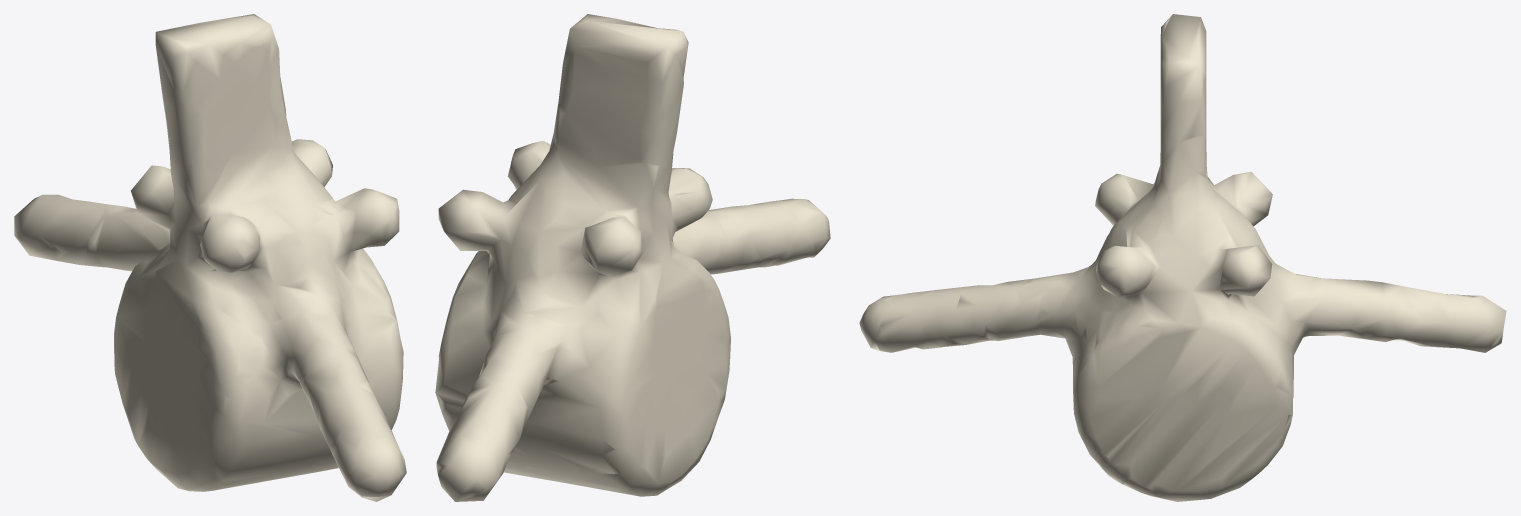
The model's file is lumbar_4.glb.
3 renders of one model, left to right at view 1: azimuth 30°, elevation 25°; view 2: azimuth 150°, elevation 25°; view 3: azimuth 270°, elevation 25°, orthographic. The views are drawn at different scales.
Visible parts, largest first — view 1: geometry_0; view 2: geometry_0; view 3: geometry_0.
Part boxes in pixels (left/top/right/bottom): geometry_0: left=14, top=14, right=406, bottom=501; geometry_0: left=435, top=14, right=830, bottom=501; geometry_0: left=859, top=14, right=1506, bottom=501.
Bounding box in the file's own units: 0.1136 × 0.2411 × 0.3405.
